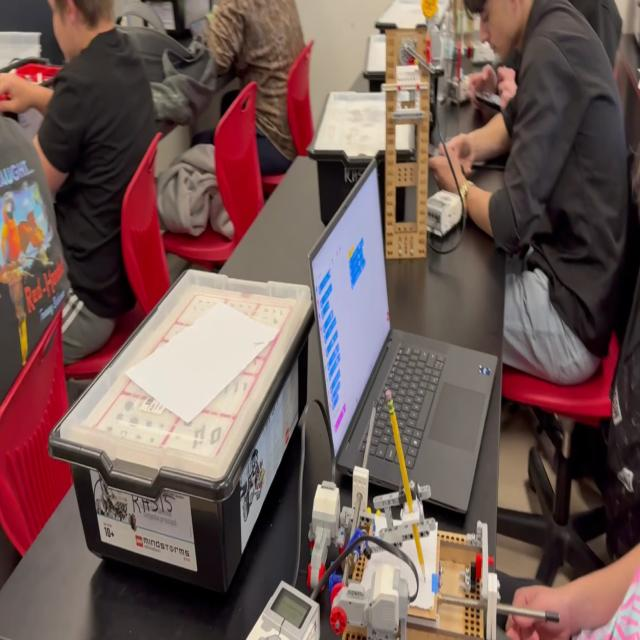pen: (415, 136, 464, 183), (479, 617, 566, 640), (475, 84, 508, 112), (190, 16, 210, 40)
